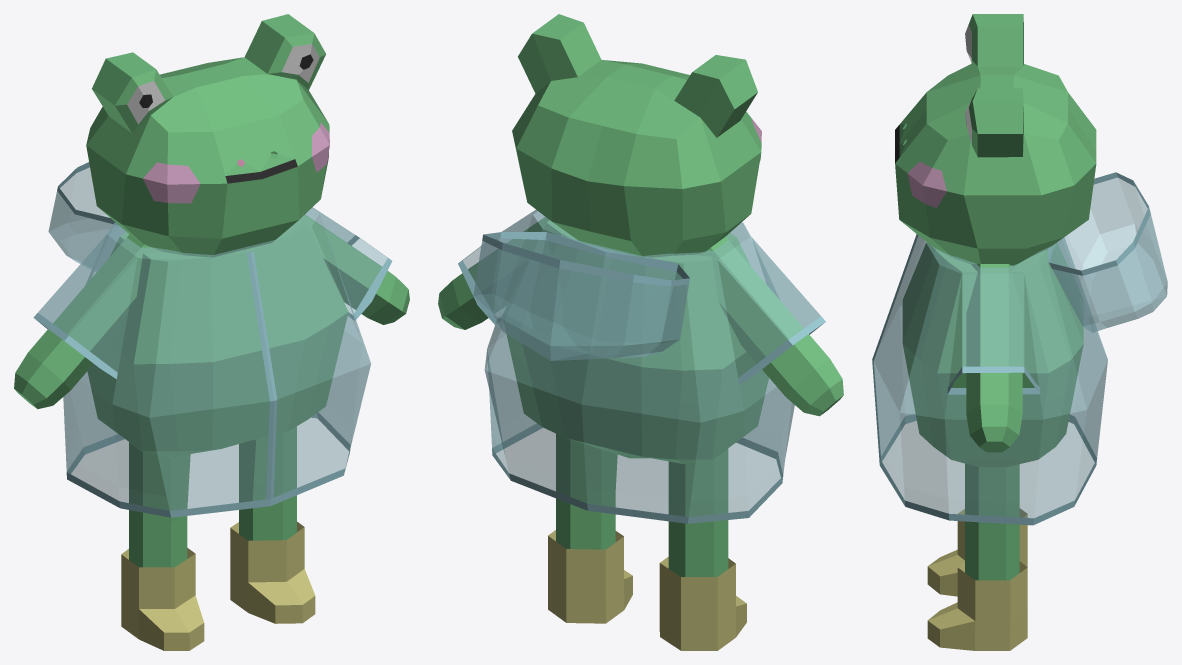
Rendered from frog.fbx.
3 views of the same model, side by side, from view 1: azimuth 30°, elevation 25°; view 2: azimuth 150°, elevation 25°; view 3: azimuth 270°, elevation 25° (orthographic). The views are drawn at different scales.
Parts seen in each view (by area): view 1: Cylinder; view 2: Cylinder; view 3: Cylinder.
Part boxes in pixels (<box>): Cylinder: <box>14,14,409,650</box>; Cylinder: <box>438,14,843,650</box>; Cylinder: <box>872,14,1167,650</box>.
Size of the model in its own units: 134 by 187 by 90.52.
